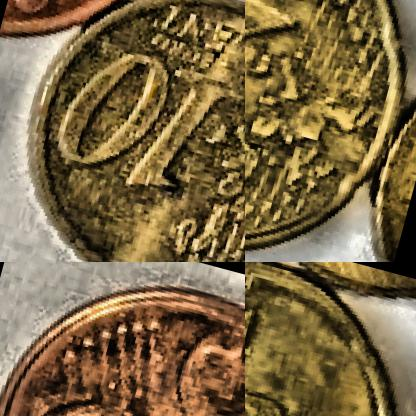coin: (0, 0, 244, 261), (245, 0, 415, 261), (0, 262, 244, 415), (245, 262, 415, 415)
